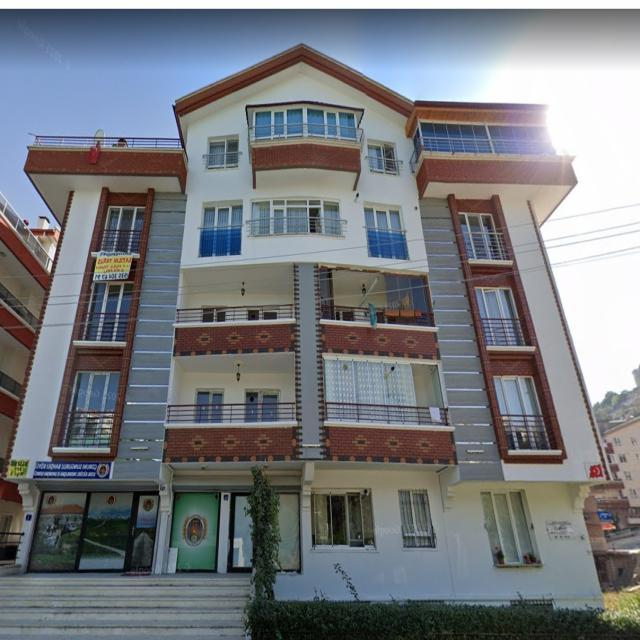Building: (2, 43, 612, 611)
